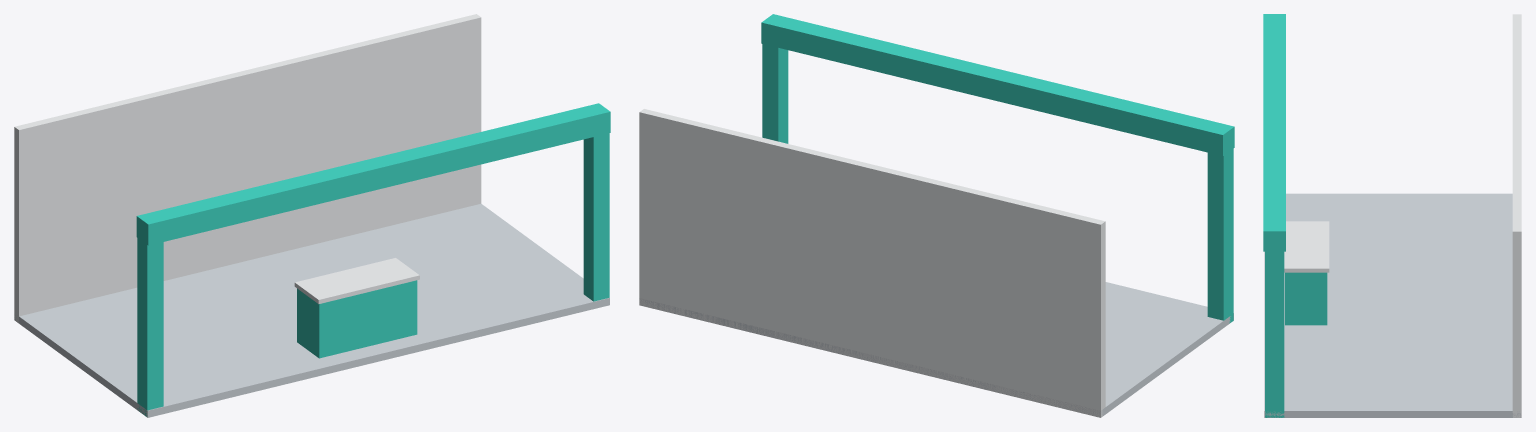
The picture shows the model from 3 angles, left to right: view 1: azimuth 30°, elevation 25°; view 2: azimuth 150°, elevation 25°; view 3: azimuth 270°, elevation 25°; orthographic projection. The views are drawn at different scales.
Visible parts, largest first — view 1: Exhibition Booth Concept; view 2: Exhibition Booth Concept; view 3: Exhibition Booth Concept.
Part boxes in pixels (bbox=[...]): Exhibition Booth Concept: bbox=[14, 14, 610, 417]; Exhibition Booth Concept: bbox=[639, 14, 1234, 417]; Exhibition Booth Concept: bbox=[1263, 14, 1521, 417].
Bounding box in the file's own units: 8 × 3.2 × 4.02.
